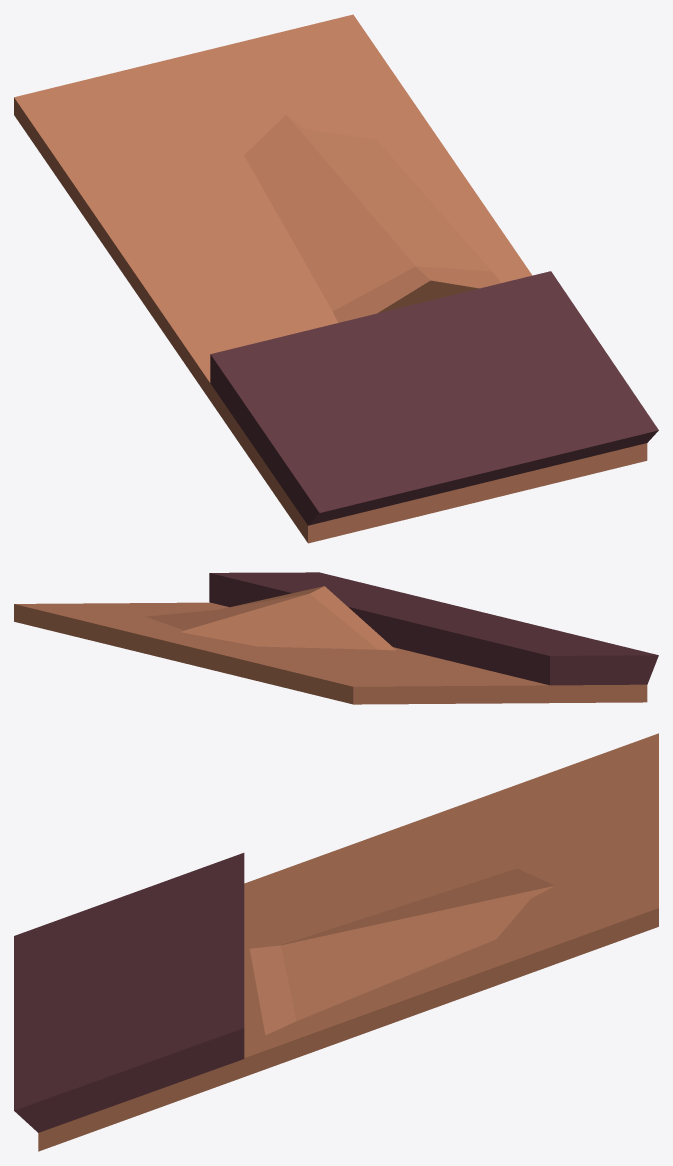
File: SM_Roof_Acroterion_Platform_L_Small_1m_Empire.fbx
3 views of the same model, one above another, from view 1: azimuth 30°, elevation 25°; view 2: azimuth 150°, elevation 25°; view 3: azimuth 270°, elevation 25° (orthographic). The views are drawn at different scales.
Visible parts, largest first — view 1: SM_Roof_Acroterion_Platform_L_Small_1m_Empire; view 2: SM_Roof_Acroterion_Platform_L_Small_1m_Empire; view 3: SM_Roof_Acroterion_Platform_L_Small_1m_Empire.
Part boxes in pixels (<box>): SM_Roof_Acroterion_Platform_L_Small_1m_Empire: <box>14,14,658,543</box>; SM_Roof_Acroterion_Platform_L_Small_1m_Empire: <box>14,572,658,704</box>; SM_Roof_Acroterion_Platform_L_Small_1m_Empire: <box>14,733,658,1151</box>.
Bounding box in the file's own units: 1 × 0.6503 × 1.56.
